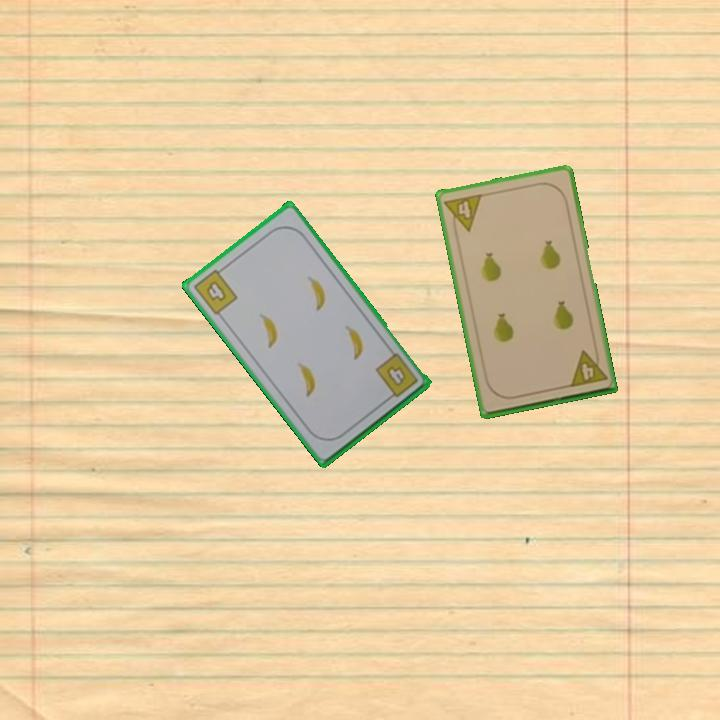4b: (190, 263, 240, 318), (371, 349, 421, 403)
4p: (441, 190, 485, 236), (566, 345, 610, 390)
